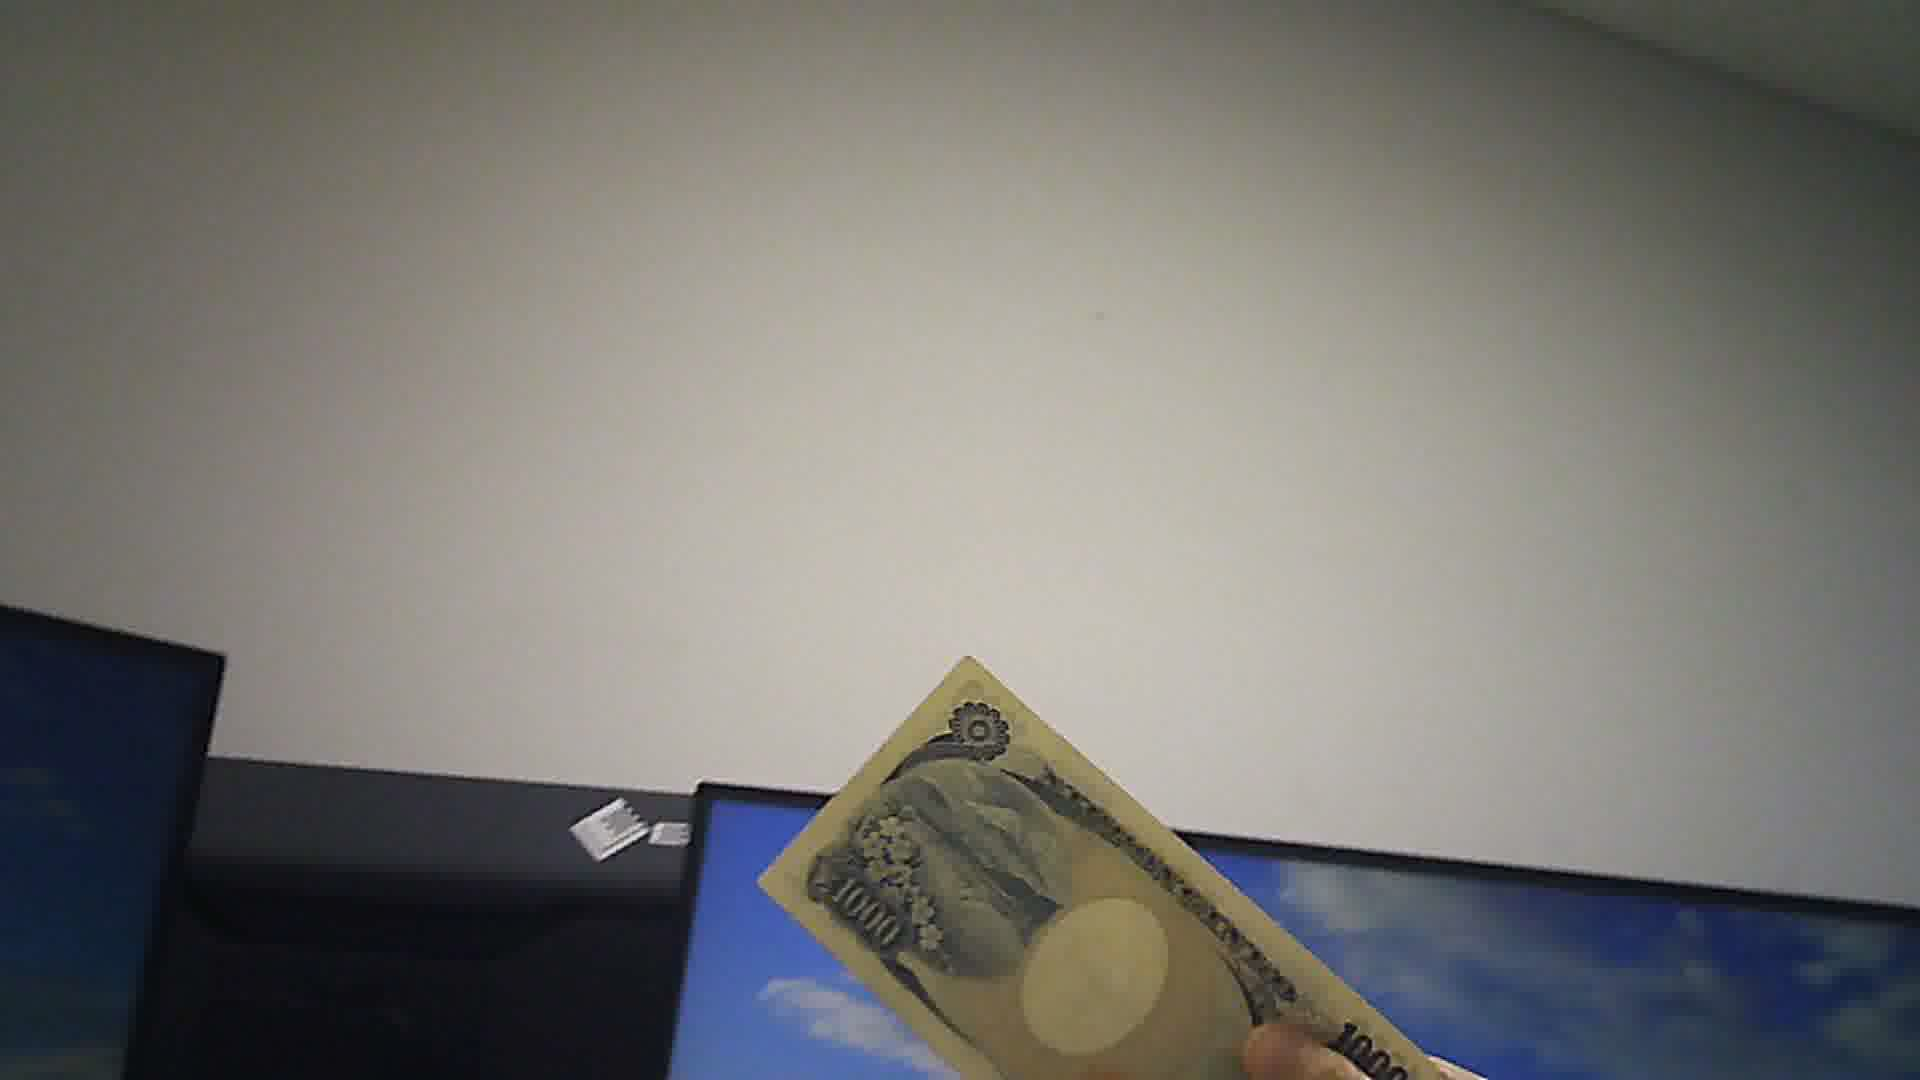1,000 Yen: (756, 645, 1449, 1079)
